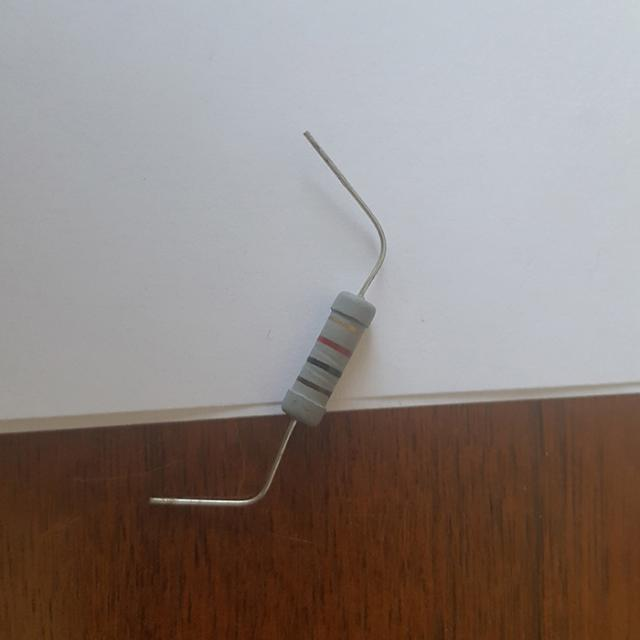black: (306, 356, 341, 378)
brown: (296, 375, 330, 394)
gold: (330, 315, 363, 333)
red: (318, 335, 351, 356)
resistor: (264, 280, 393, 436)
